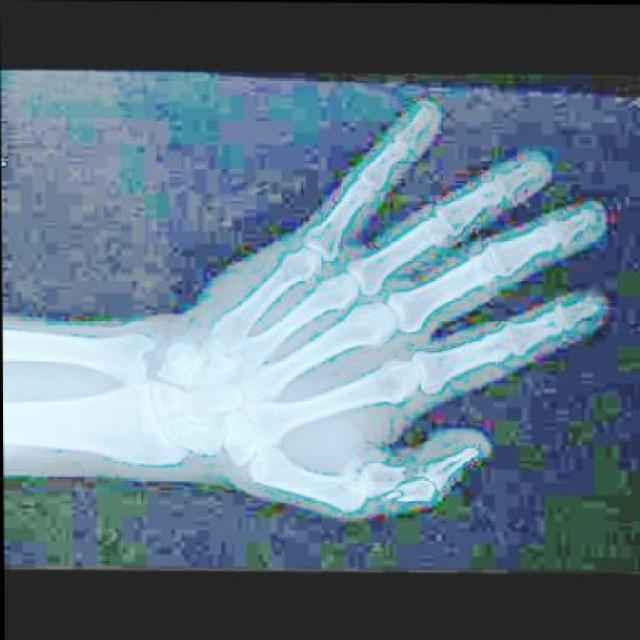Fracture: (374, 455, 430, 519)
